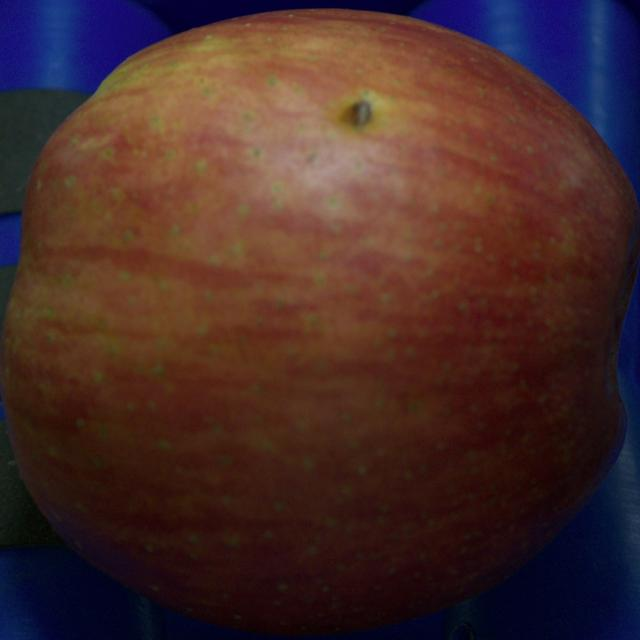scratch: (350, 100, 371, 128)
